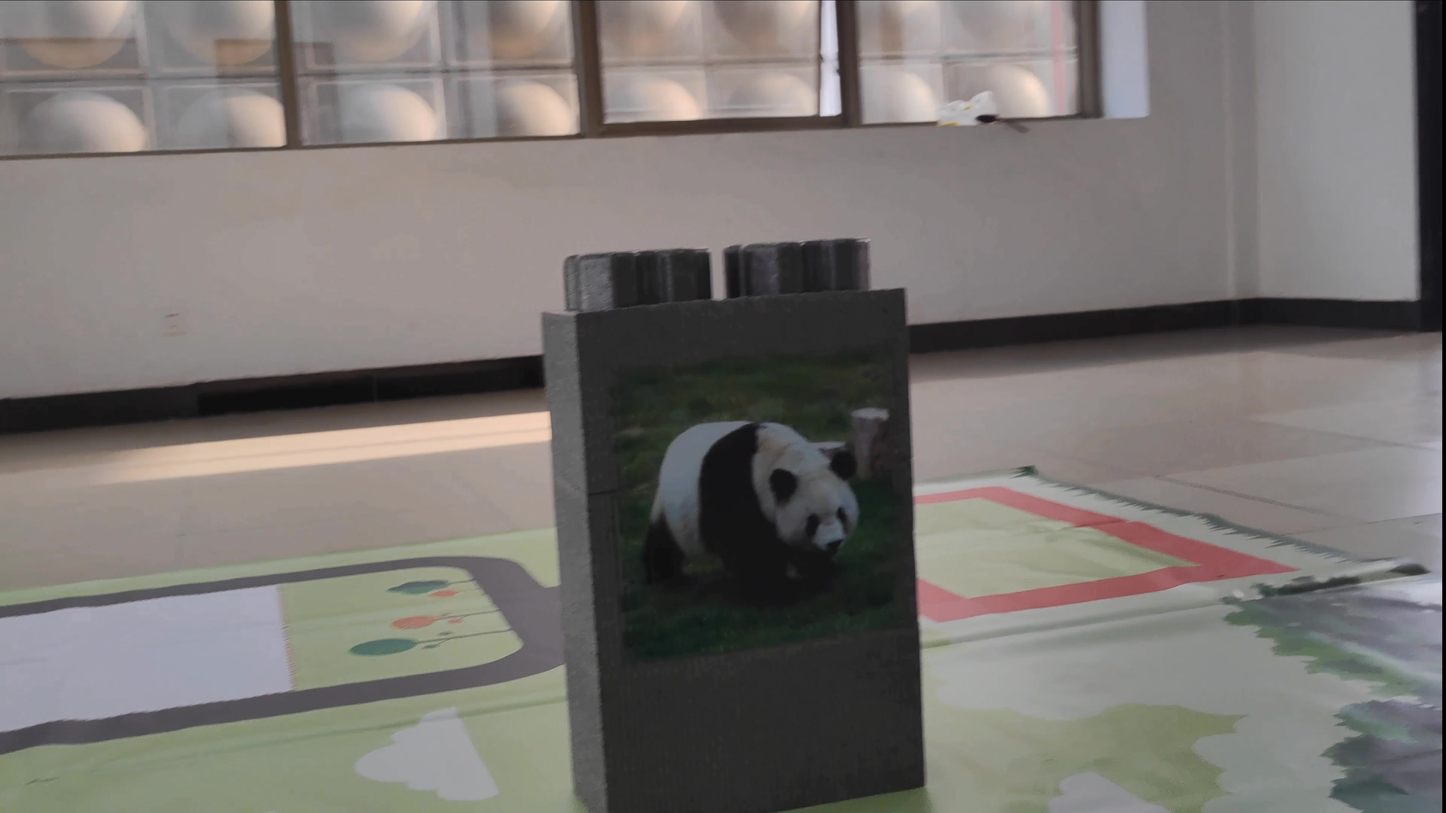panda: (636, 401, 885, 629)
